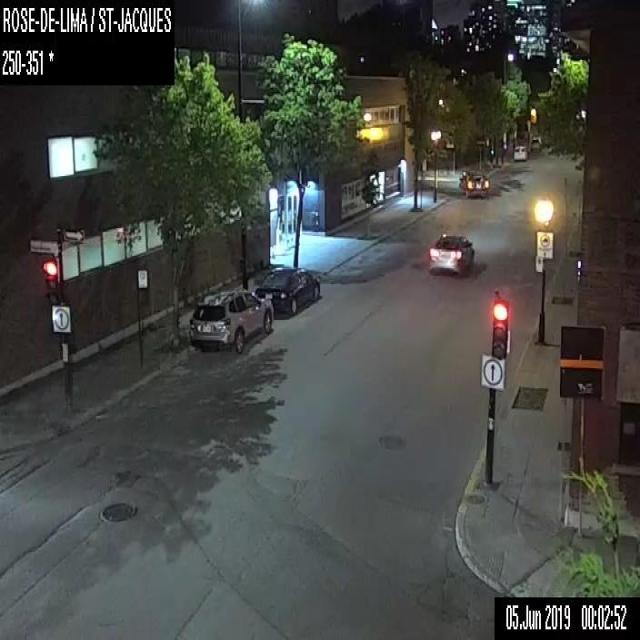vehicle: (188, 287, 272, 353), (253, 268, 320, 312), (426, 232, 473, 276), (457, 168, 489, 197), (513, 143, 527, 160), (530, 135, 542, 148)
